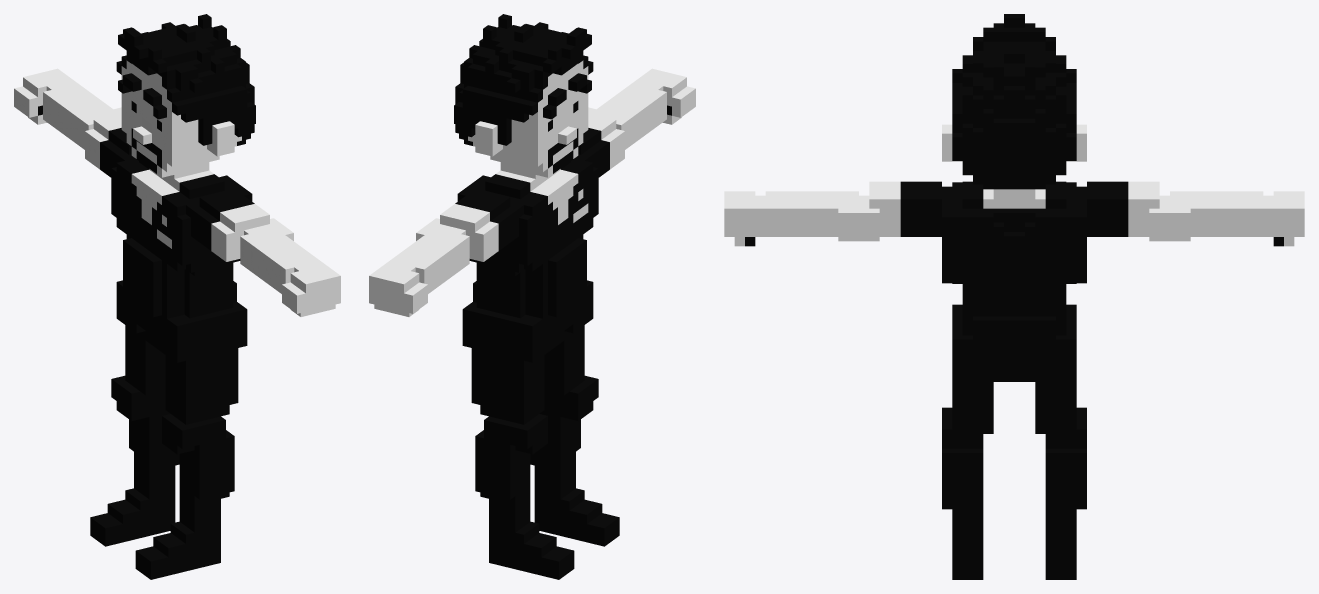
The model's file is CayafaHero.obj.
3 renders of one model, left to right at view 1: azimuth 30°, elevation 25°; view 2: azimuth 150°, elevation 25°; view 3: azimuth 270°, elevation 25°, orthographic. The views are drawn at different scales.
Bounding box in the file's own units: 1.3 × 5.7 × 5.6.
